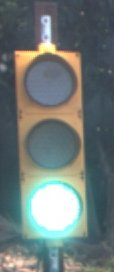Green: (5, 33, 97, 243)
